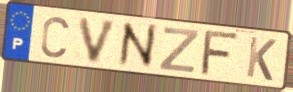C: (39, 14, 71, 60)
F: (198, 29, 243, 77)
K: (244, 35, 278, 83)
N: (117, 20, 158, 69)
V: (77, 16, 121, 66)
Z: (157, 26, 201, 75)
